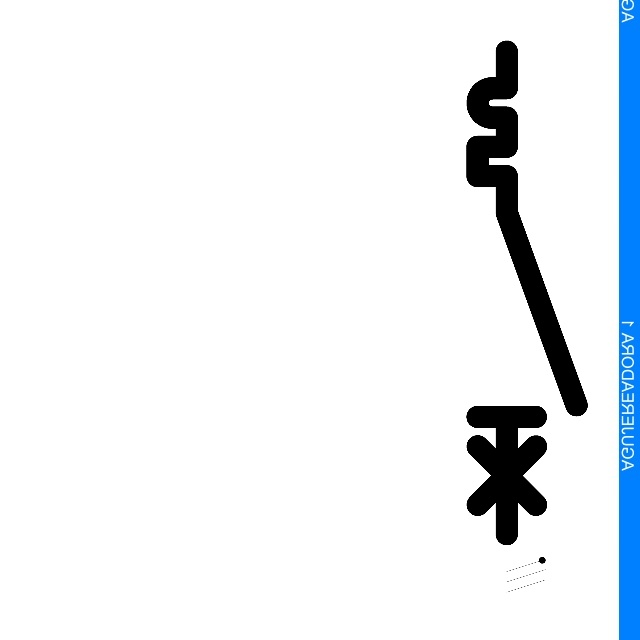interruptor_termomagnetico: (465, 39, 589, 546)
